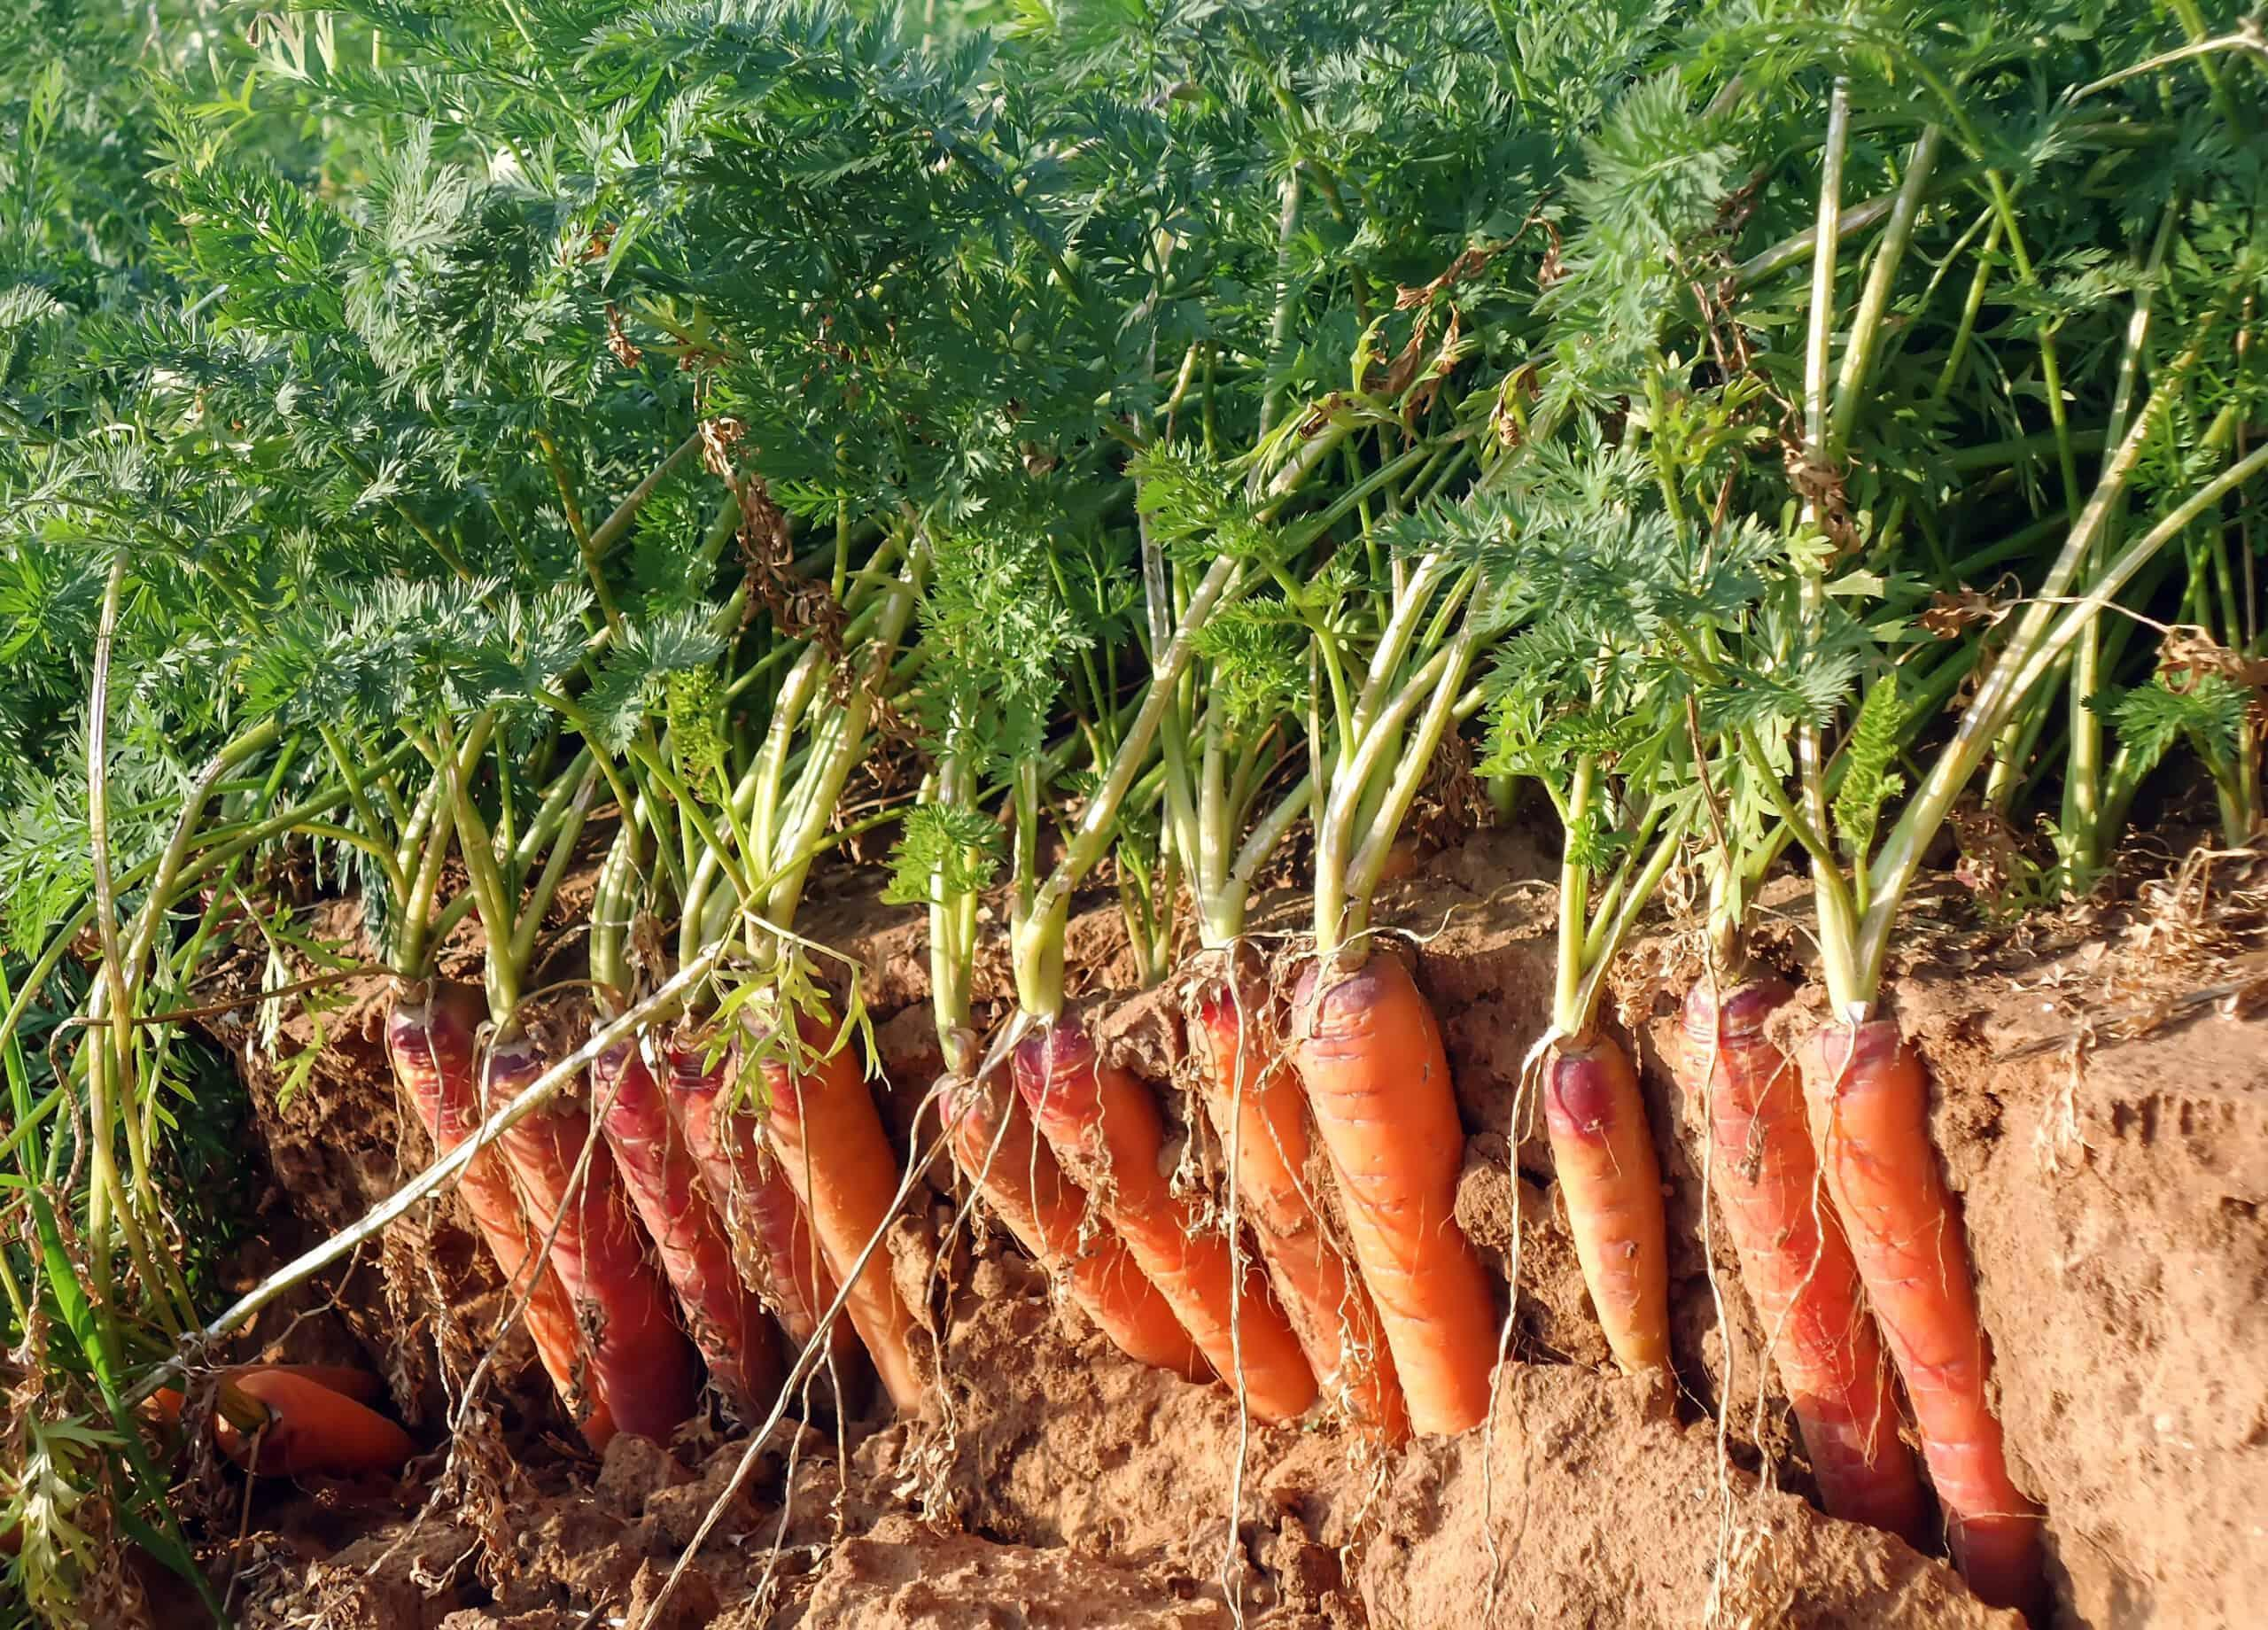carrot: (359, 1000, 1981, 1442), (917, 921, 1514, 1457), (1530, 1023, 2037, 1561), (435, 951, 806, 1362)
